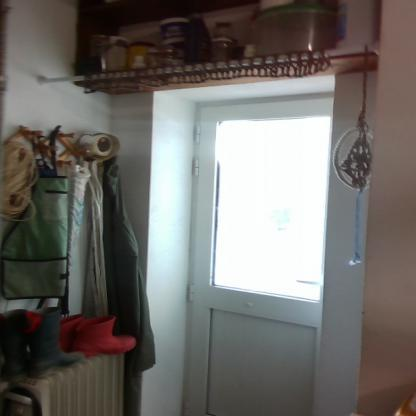door: (196, 104, 324, 415)
hinged: (192, 156, 201, 178), (188, 282, 196, 301), (196, 122, 202, 144), (184, 399, 191, 415)
lever: (295, 275, 322, 289)
